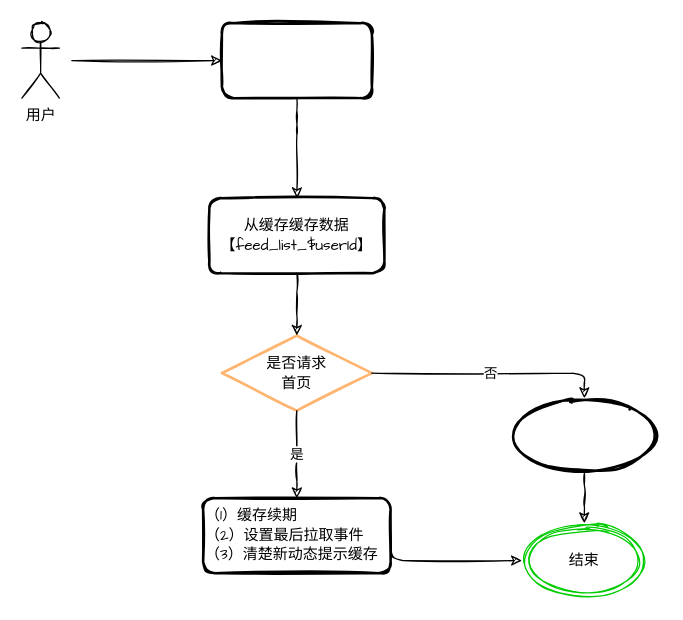
Image size: 683x620. Some labels were removed from this diagram. The shapes that lost their labels are listed below. From the top down, each one's box as (x1, y1, x2, y2) in pixels, then its label:
(220, 21, 372, 99): 预加载
(508, 396, 660, 474): 复杂的分页 选择数据逻辑
